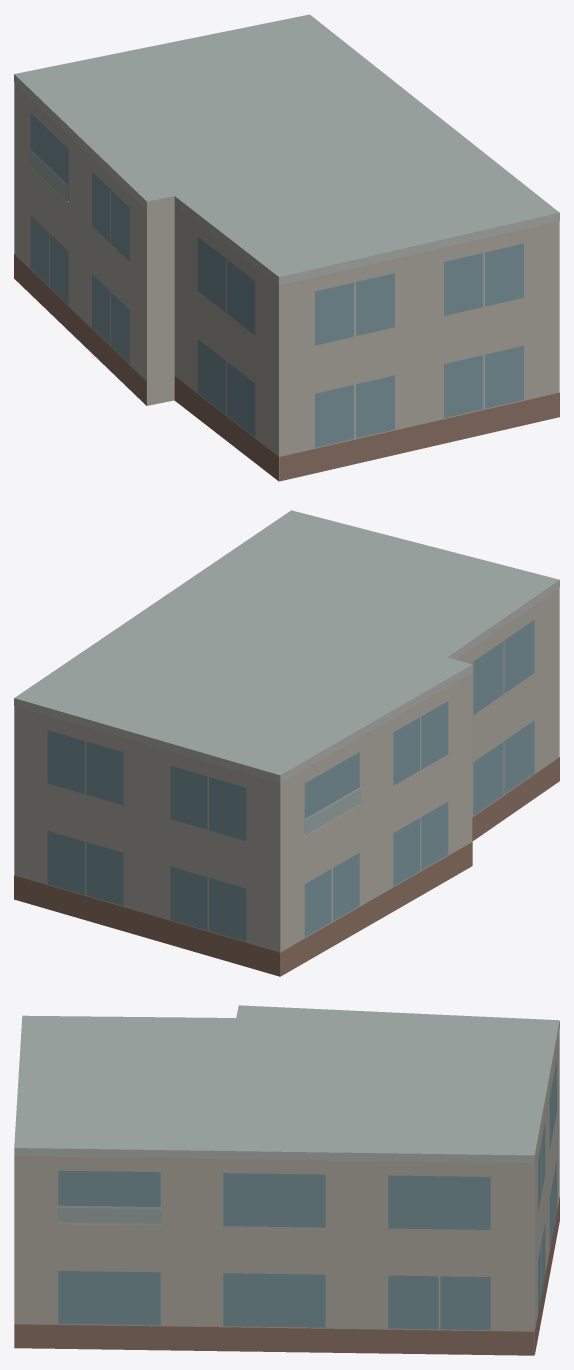
The model's file is survey-upis-32966914.glb.
3 views of the same model, one above another, from view 1: azimuth 30°, elevation 25°; view 2: azimuth 150°, elevation 25°; view 3: azimuth 270°, elevation 25° (orthographic). The views are drawn at different scales.
Parts seen in each view (by area): view 1: survey-upis-32966914.tmp; view 2: survey-upis-32966914.tmp; view 3: survey-upis-32966914.tmp.
Boxes of the visible parts, x1,y1,x2,y2 form: survey-upis-32966914.tmp: (14, 14, 559, 481); survey-upis-32966914.tmp: (14, 510, 559, 976); survey-upis-32966914.tmp: (14, 1005, 559, 1355).
Size of the model in its own units: 9.82 by 6.1 by 15.08.
